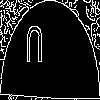U: (25, 25, 44, 73)
